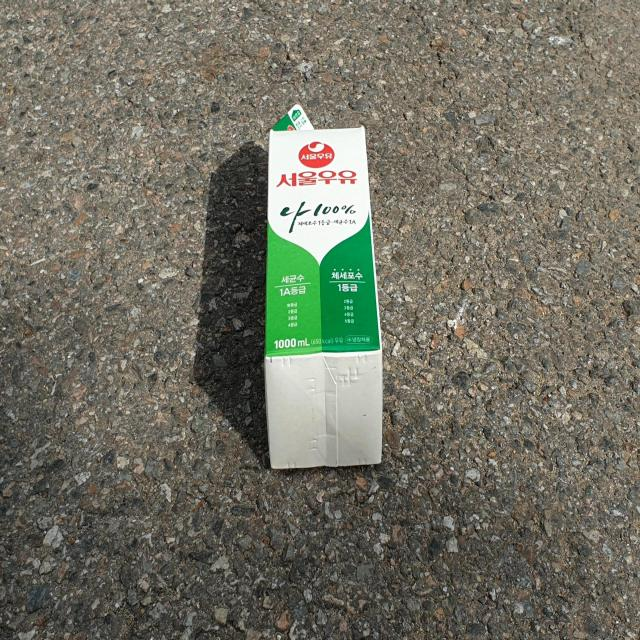paperpack: (264, 104, 383, 469)
